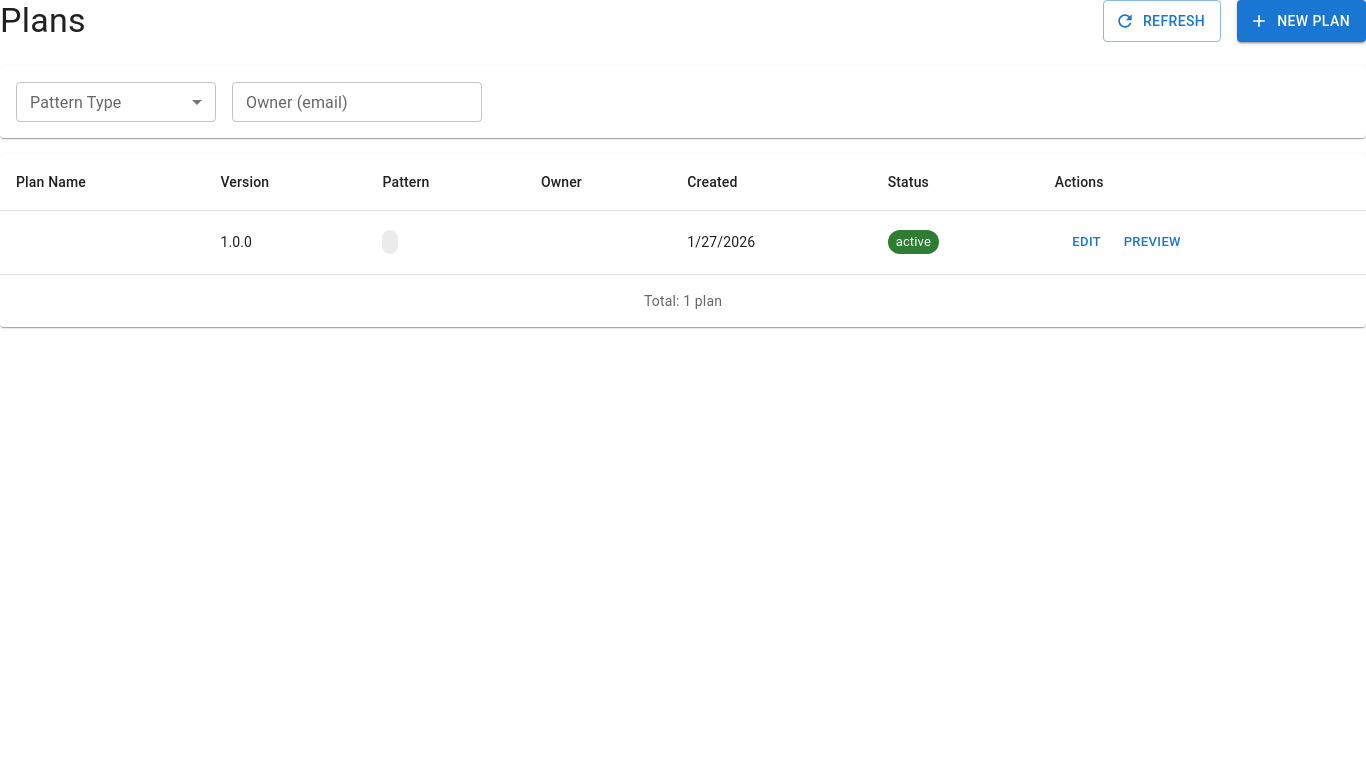
Test: Table Existence Checking › should show warning when table does not exist
Click the button "Preview" at (1152, 242), box [1119,227,1186,258]
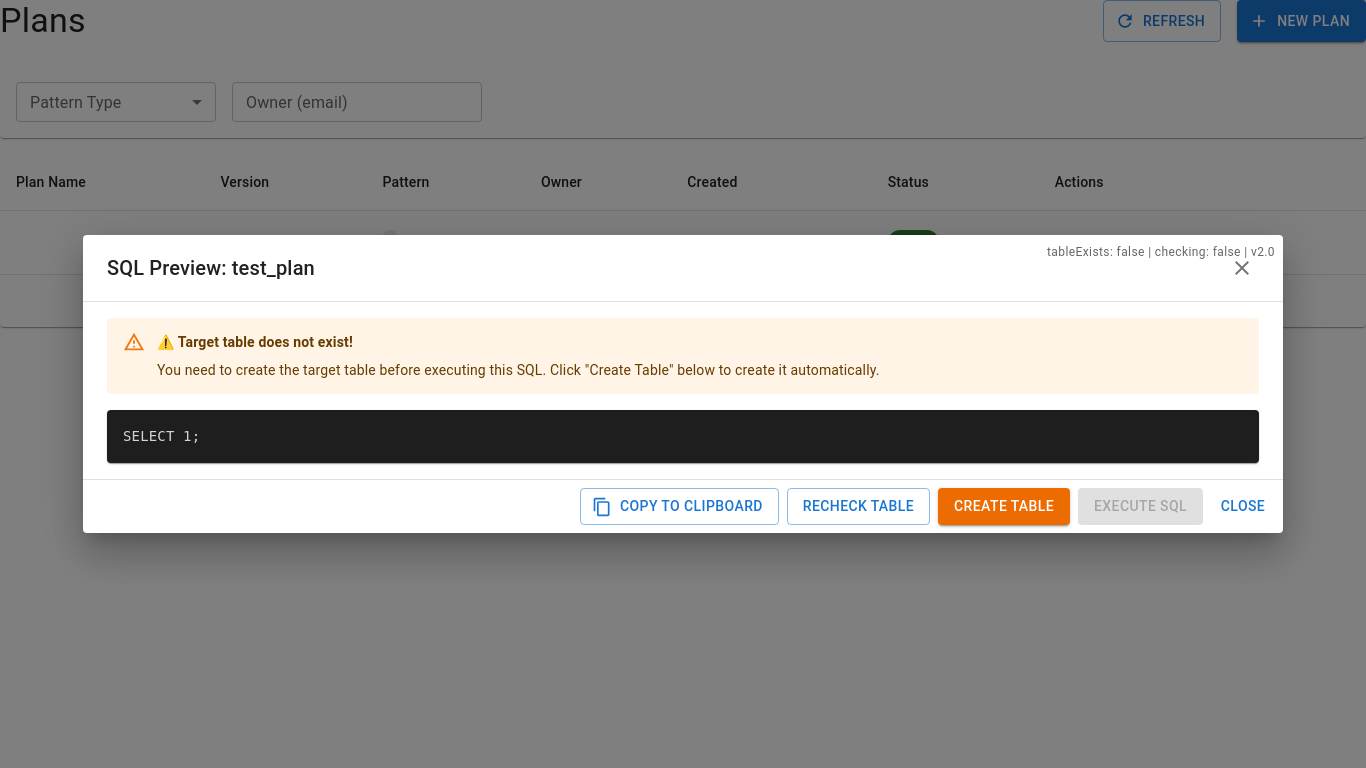
Check: the text "⚠️ Target table does not exist!" is shown, box [157,334,353,350]
